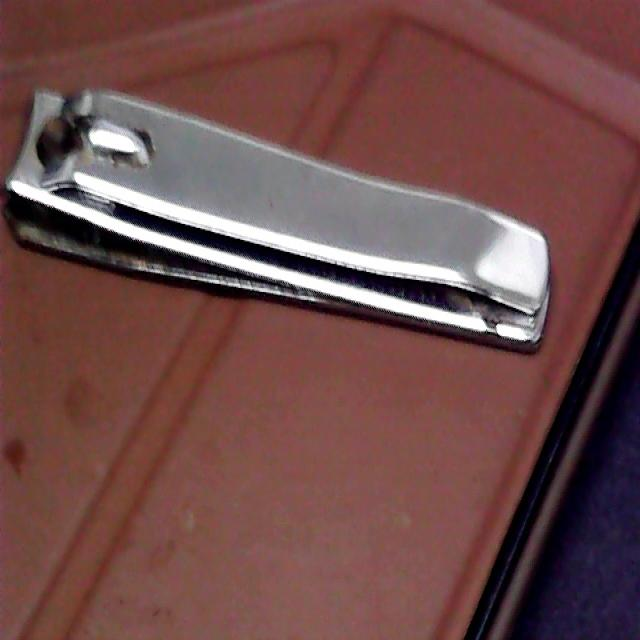Nail_clipper: (6, 89, 550, 349), (6, 89, 549, 349)
